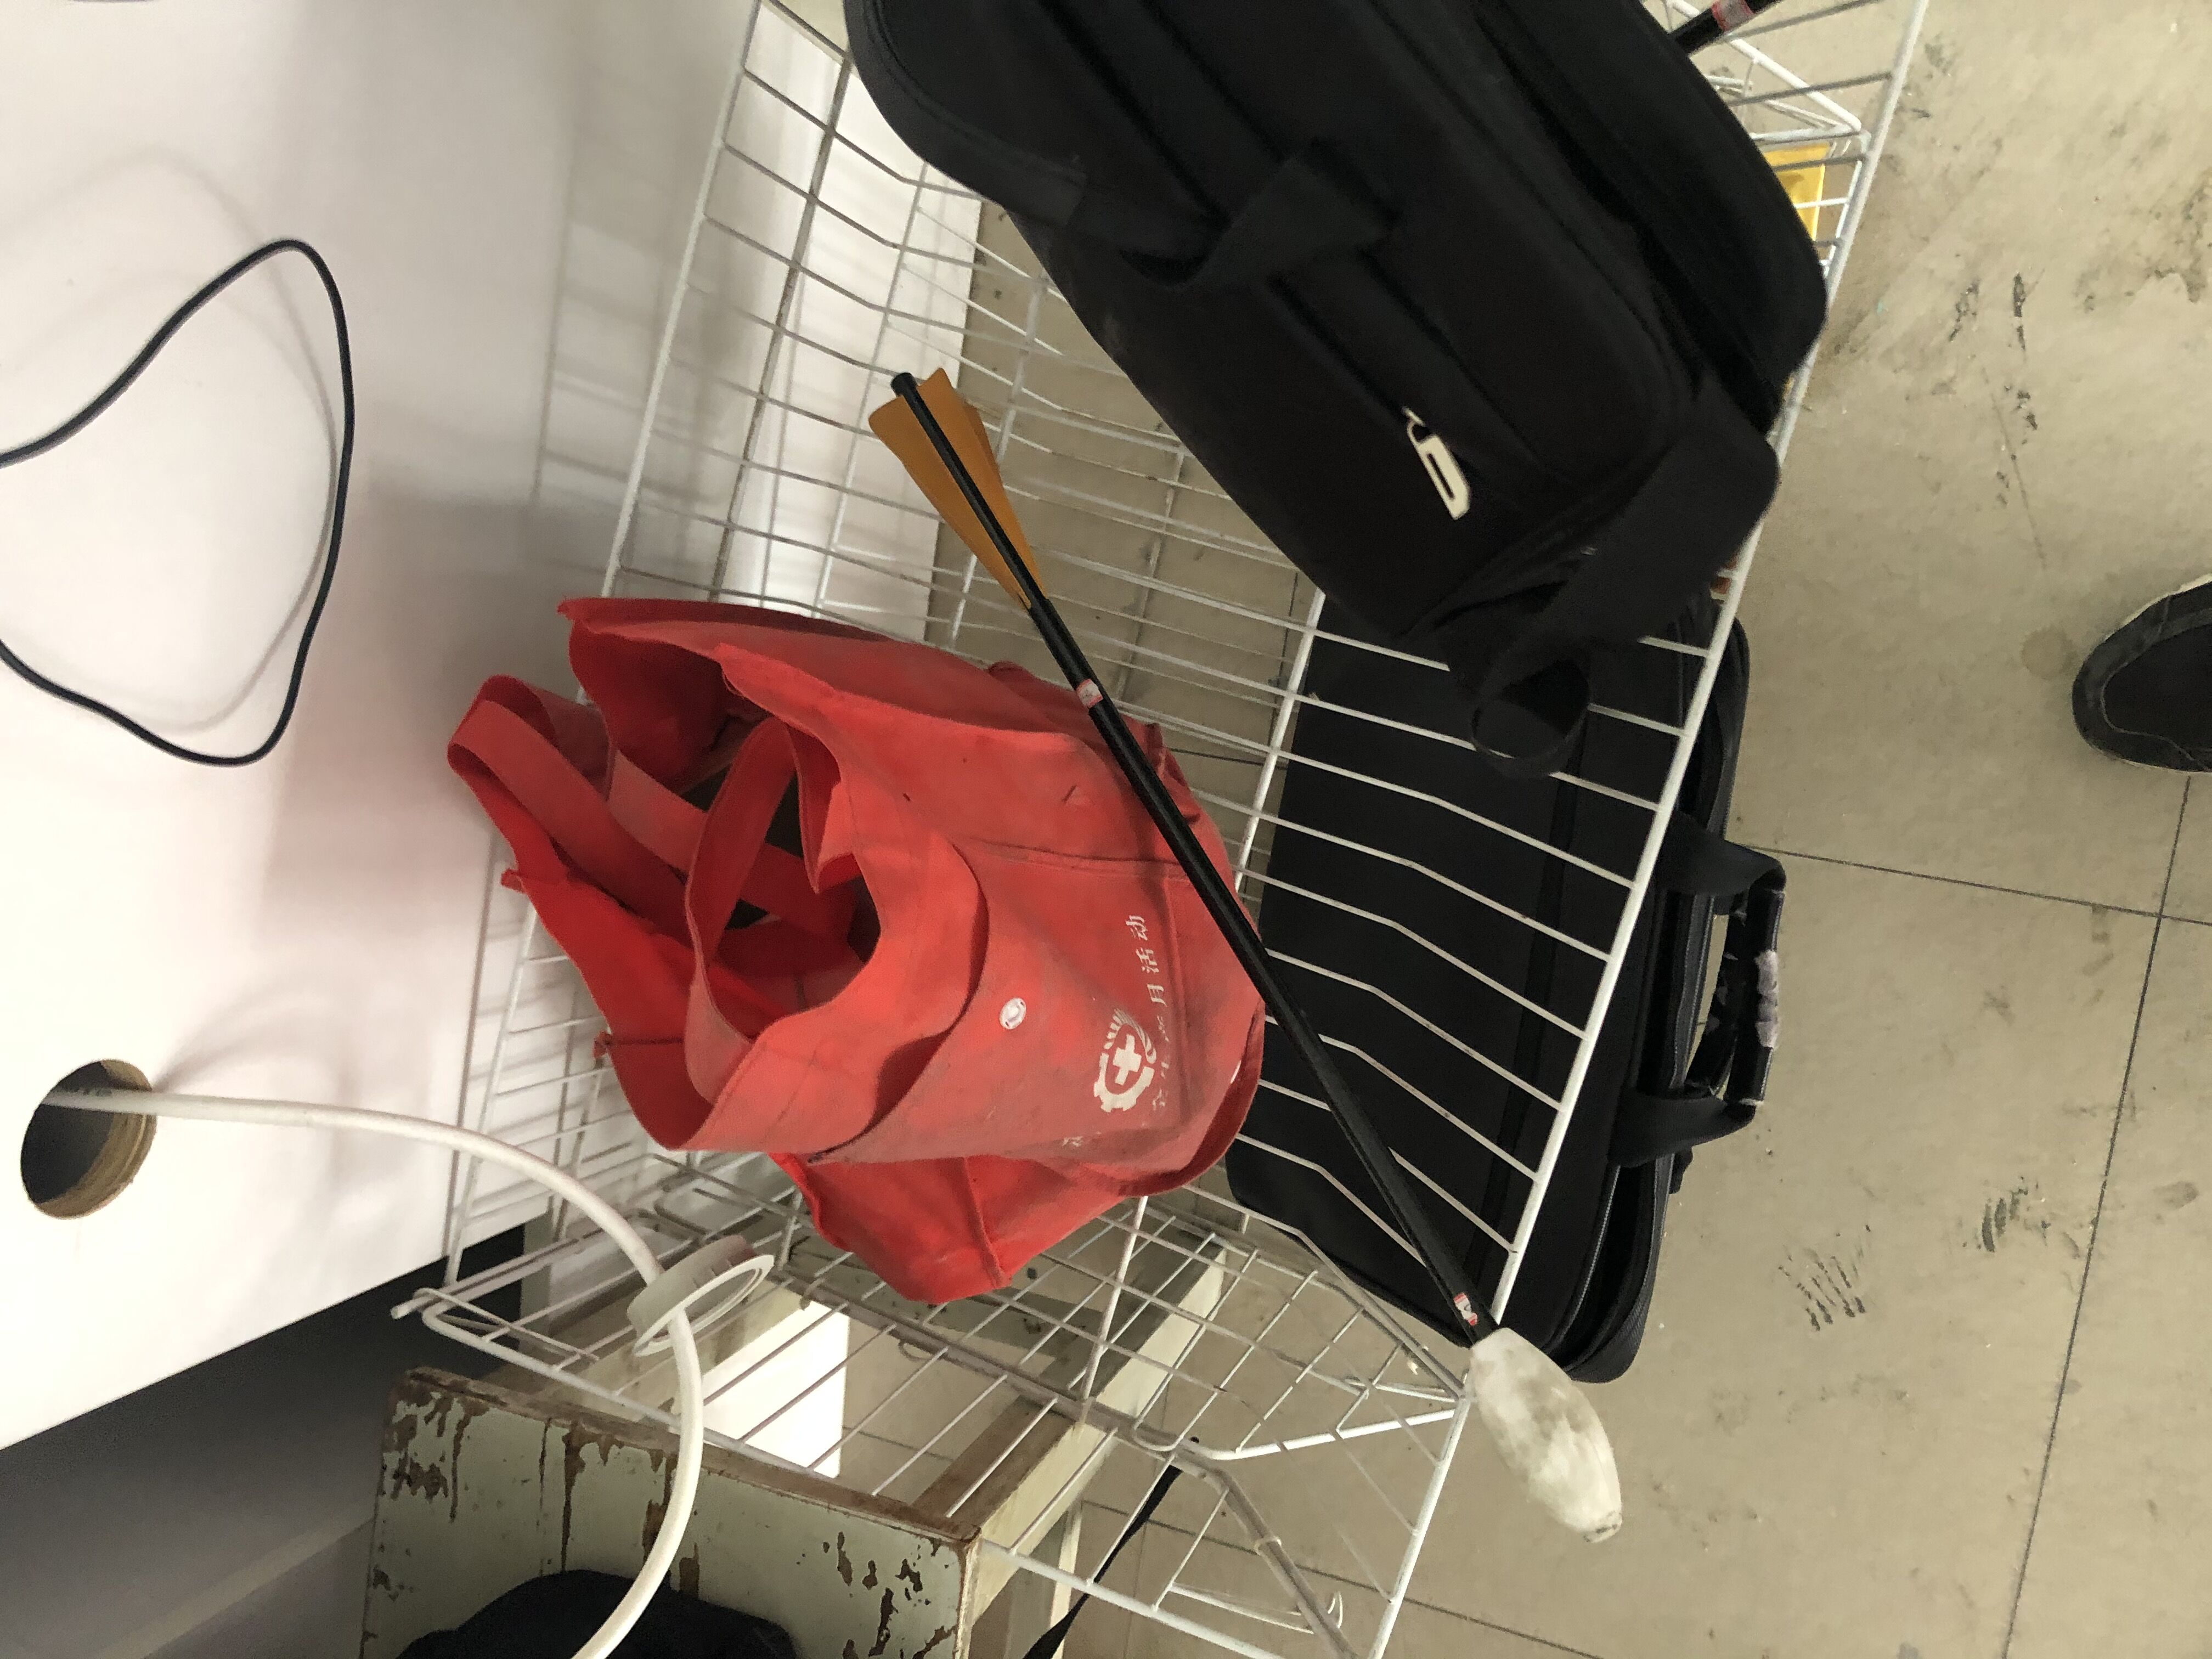arrow: (867, 366, 1625, 1546)
arrowFront: (1465, 1319, 1627, 1546)
